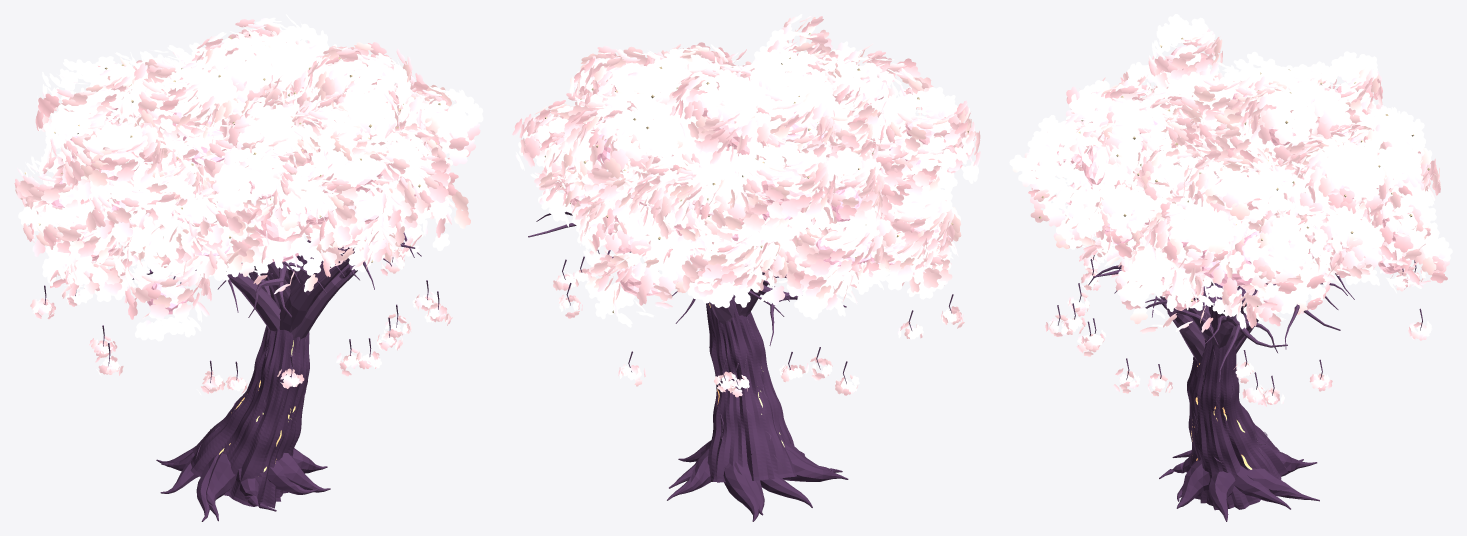
File: r11_geometry_only.glb
3 views of the same model, side by side, from view 1: azimuth 30°, elevation 25°; view 2: azimuth 150°, elevation 25°; view 3: azimuth 270°, elevation 25° (orthographic). The views are drawn at different scales.
Visible parts, largest first — view 1: Sakura_petal_pink, Sakura_petal_blush, Sakura_petal_warm_rose, Sakura_petal_cream, Trunk_bark_plumblack, Branches_plum, Canopy_peach, Canopy_depth_rose, Canopy_rose; view 2: Sakura_petal_pink, Sakura_petal_blush, Sakura_petal_warm_rose, Sakura_petal_cream, Trunk_bark_plumblack, Canopy_peach, Branches_plum, Canopy_rose; view 3: Sakura_petal_pink, Sakura_petal_blush, Sakura_petal_warm_rose, Sakura_petal_cream, Trunk_bark_plumblack, Branches_plum, Canopy_peach, Canopy_rose.
Part boxes in pixels (bbox=[...]): Sakura_petal_pink: bbox=[16, 19, 483, 394]; Sakura_petal_blush: bbox=[17, 20, 482, 395]; Sakura_petal_warm_rose: bbox=[14, 14, 480, 340]; Sakura_petal_cream: bbox=[15, 22, 470, 323]; Trunk_bark_plumblack: bbox=[156, 249, 354, 521]; Branches_plum: bbox=[44, 232, 439, 458]; Canopy_peach: bbox=[77, 61, 397, 271]; Canopy_depth_rose: bbox=[70, 119, 415, 314]; Canopy_rose: bbox=[51, 102, 447, 262]; Sakura_petal_pink: bbox=[519, 16, 980, 397]; Sakura_petal_blush: bbox=[520, 14, 980, 394]; Sakura_petal_warm_rose: bbox=[512, 22, 974, 319]; Sakura_petal_cream: bbox=[535, 17, 971, 308]; Trunk_bark_plumblack: bbox=[667, 295, 848, 521]; Canopy_peach: bbox=[554, 67, 950, 295]; Branches_plum: bbox=[528, 211, 953, 468]; Canopy_rose: bbox=[596, 111, 941, 266]; Sakura_petal_pink: bbox=[1027, 25, 1449, 406]; Sakura_petal_blush: bbox=[1018, 17, 1449, 404]; Sakura_petal_warm_rose: bbox=[1022, 14, 1447, 332]; Sakura_petal_cream: bbox=[1009, 25, 1452, 324]; Trunk_bark_plumblack: bbox=[1159, 298, 1319, 521]; Branches_plum: bbox=[1057, 255, 1422, 462]; Canopy_peach: bbox=[1057, 44, 1402, 310]; Canopy_rose: bbox=[1104, 92, 1353, 286].
Size of the model in its own units: 26.64 by 27.14 by 26.01.
